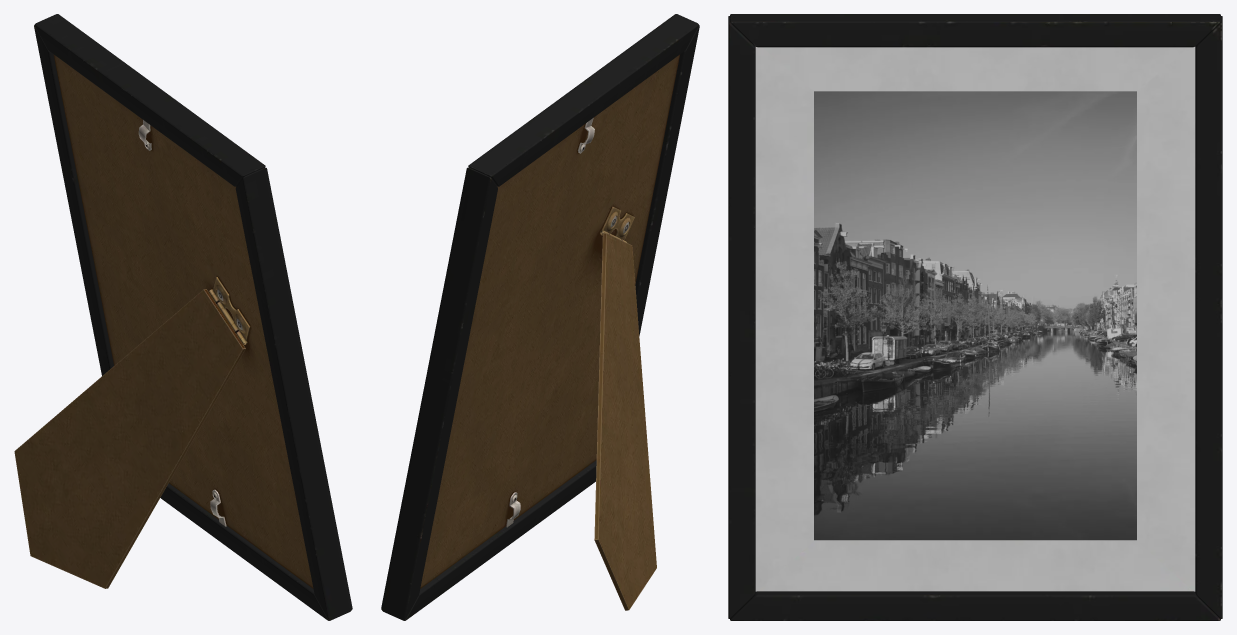
File: standing_picture_frame_01_2k.glb
3 views of the same model, side by side, from view 1: azimuth 30°, elevation 25°; view 2: azimuth 150°, elevation 25°; view 3: azimuth 270°, elevation 25° (orthographic). The views are drawn at different scales.
Parts seen in each view (by area): view 1: standing_picture_frame_01; view 2: standing_picture_frame_01; view 3: standing_picture_frame_01.
Part boxes in pixels (x1,y1,x2,y2): standing_picture_frame_01: (14, 14, 352, 620); standing_picture_frame_01: (381, 14, 699, 620); standing_picture_frame_01: (728, 14, 1222, 620).
Size of the model in its own units: 0.1003 by 0.2497 by 0.2008.
3 materials, 2 textured.
